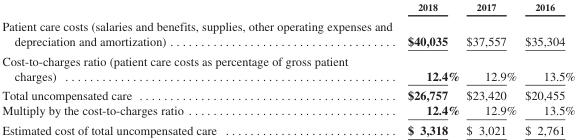table: (1, 1, 574, 136)
table column: (1, 1, 399, 136), (399, 1, 462, 136), (462, 1, 520, 136), (520, 1, 574, 136)
table column header: (1, 1, 574, 15)
table row: (1, 15, 574, 50), (1, 50, 574, 85), (1, 85, 574, 102), (1, 102, 574, 119), (1, 119, 574, 136), (1, 1, 574, 15)
